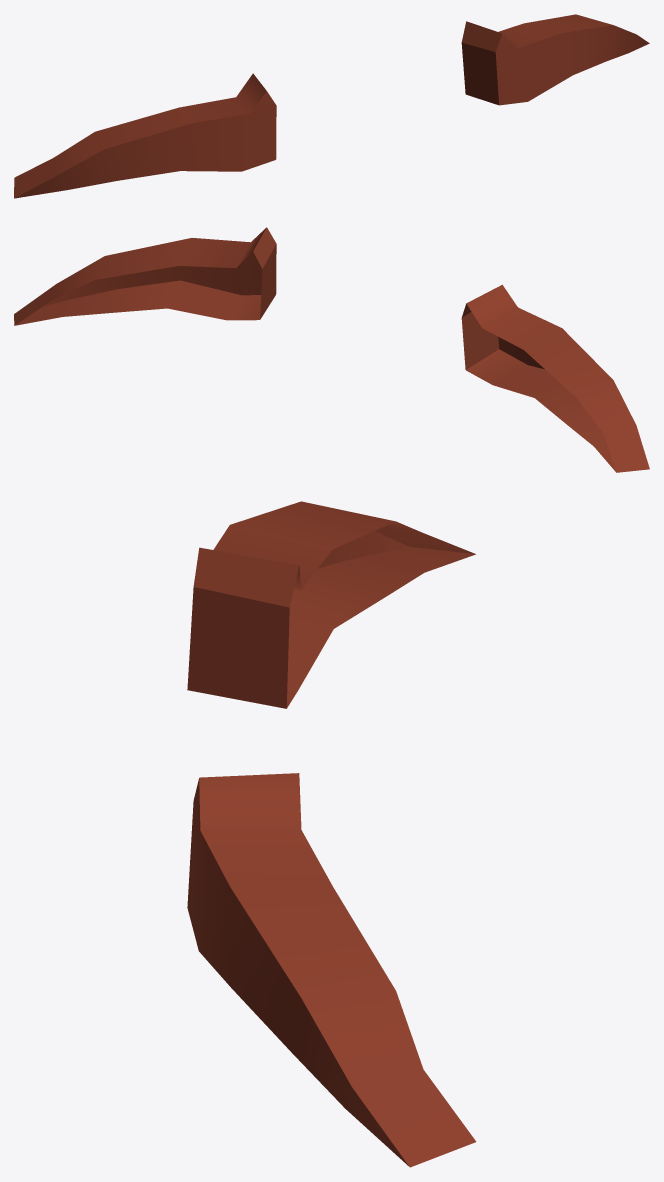
The model's file is Brow_Brown_3.fbx.
3 renders of one model, top to bottom at view 1: azimuth 30°, elevation 25°; view 2: azimuth 150°, elevation 25°; view 3: azimuth 270°, elevation 25°, orthographic. The views are drawn at different scales.
Visible parts, largest first — view 1: Brow_Brown_3; view 2: Brow_Brown_3; view 3: Brow_Brown_3.
Boxes of the visible parts, x1,y1,x2,y2 form: Brow_Brown_3: (14,14,649,198); Brow_Brown_3: (14,227,649,472); Brow_Brown_3: (187,501,476,1167).
Bounding box in the file's own units: 32.72 × 4.78 × 6.44.
